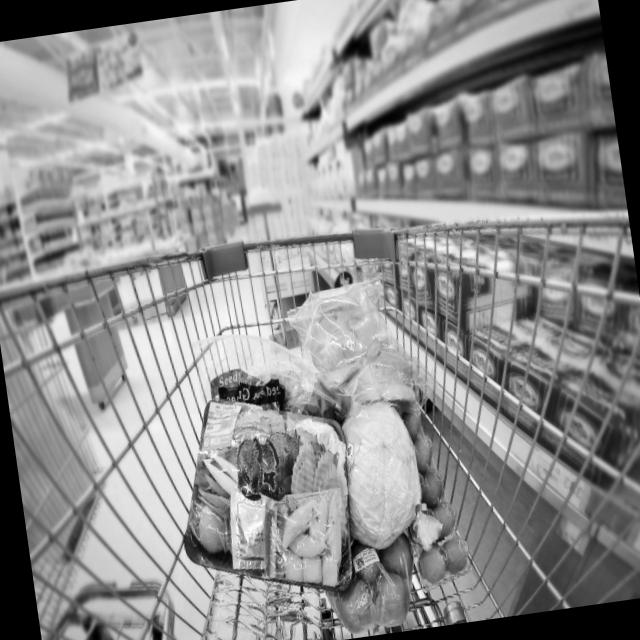bap cai: (327, 388, 433, 556)
nho: (210, 365, 288, 413)
tao: (315, 520, 426, 638)
trung: (387, 394, 472, 599)
